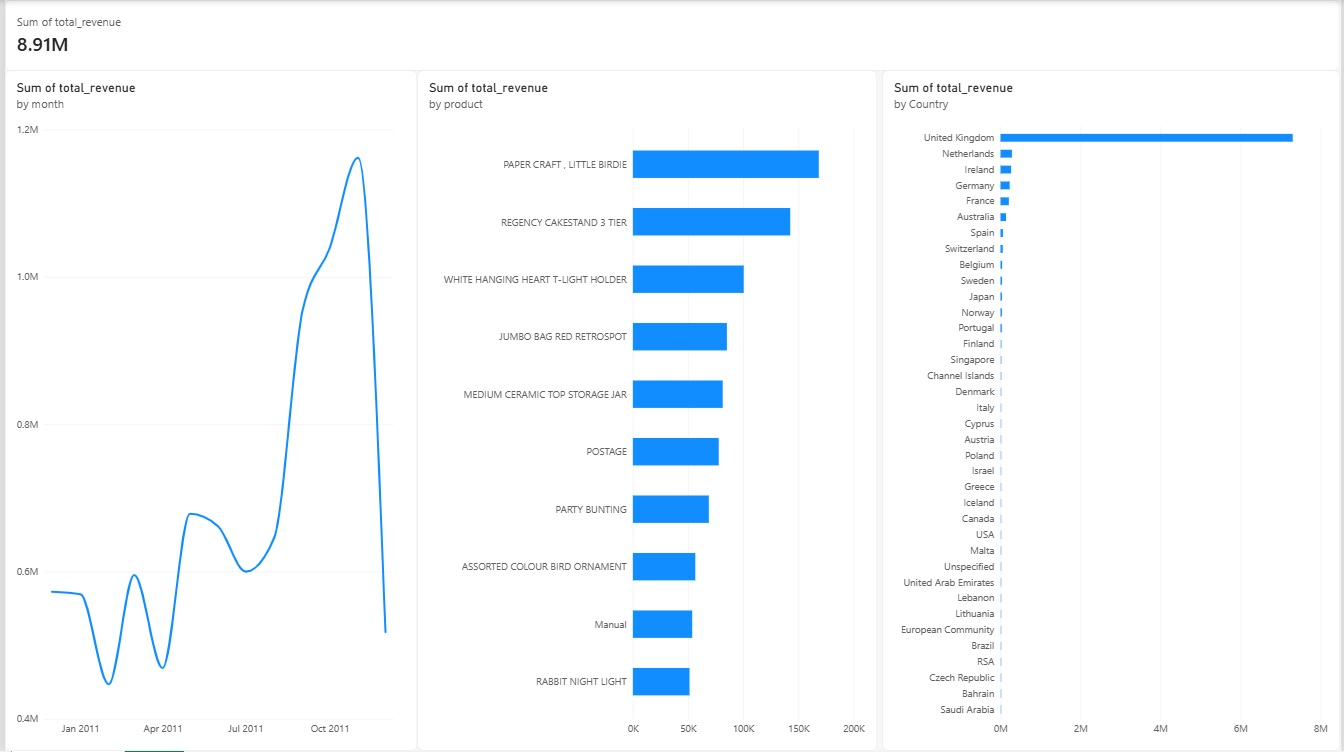

The dashboard page shown, as its layout file describes it:
{"tool":"powerbi","page":{"name":"Page 1","canvas":[1920,1080],"ordinal":0},"visuals":[{"type":"cardVisual","fields":{"Data":["Sum(sales_by_month.total_revenue)"]},"box":[0,0,1919.1,102],"z":0},{"type":"lineChart","fields":{"Category":["sales_by_month.month"],"Y":["Sum(sales_by_month.total_revenue)"]},"box":[0,102,592.4,978],"z":1},{"type":"clusteredBarChart","fields":{"Category":["sales_by_product.product"],"Y":["Sum(sales_by_product.total_revenue)"]},"box":[592.4,102,660.5,978],"z":2},{"type":"clusteredBarChart","fields":{"Category":["sales_by_country.Country"],"Y":["Sum(sales_by_country.total_revenue)"]},"box":[1262,102,658,978],"z":3}]}

Visuals, with their boxes in screenshot pixels (x1, y1, x2, y2), scaled from the page's 1920x1080 canvas onto the 1344x752 screenshot:
cardVisual - Sum(sales_by_month.total_revenue): [left=0, top=0, right=1343, bottom=71]
lineChart - sales_by_month.month x Sum(sales_by_month.total_revenue): [left=0, top=71, right=415, bottom=751]
clusteredBarChart - sales_by_product.product x Sum(sales_by_product.total_revenue): [left=415, top=71, right=877, bottom=751]
clusteredBarChart - sales_by_country.Country x Sum(sales_by_country.total_revenue): [left=883, top=71, right=1343, bottom=751]
